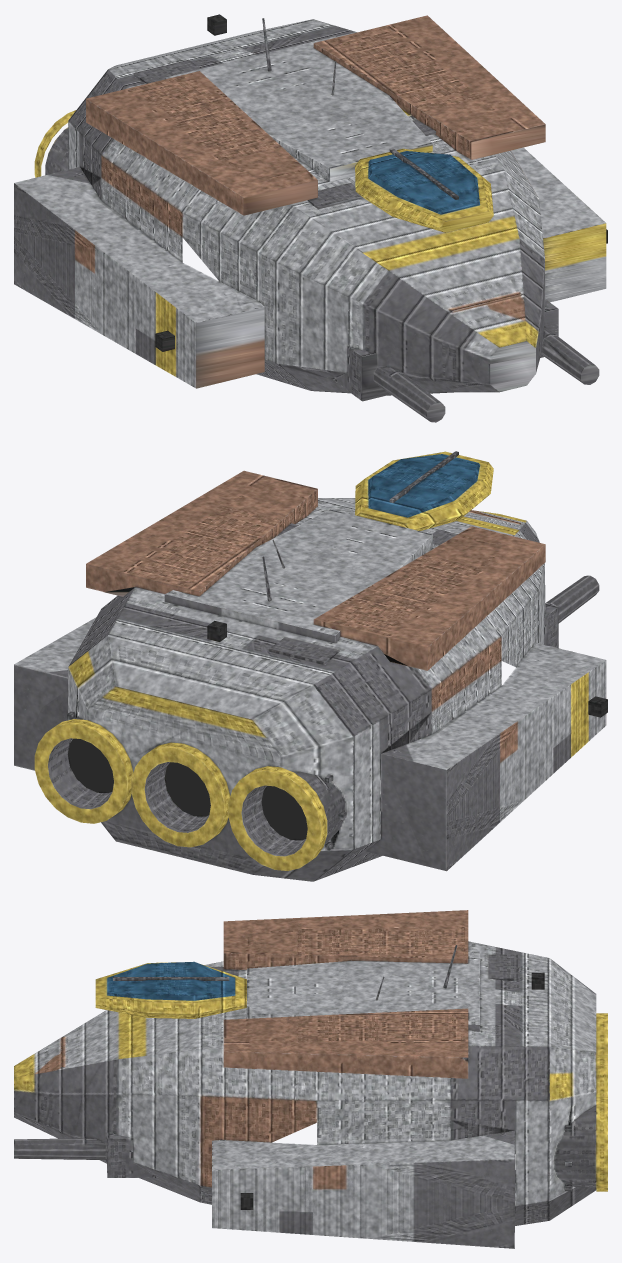
File: sd_npc_brute.glb
The picture shows the model from 3 angles, top to bottom: view 1: azimuth 30°, elevation 25°; view 2: azimuth 150°, elevation 25°; view 3: azimuth 270°, elevation 25°; orthographic projection. The views are drawn at different scales.
Visible parts, largest first — view 1: LOD0_body, LOD1_body; view 2: LOD0_body, LOD1_body; view 3: LOD0_body, LOD1_body.
Part boxes in pixels (x1,y1,x2,y2): LOD0_body: (14,14,607,422); LOD1_body: (14,15,607,411); LOD0_body: (14,451,607,881); LOD1_body: (14,451,607,874); LOD0_body: (14,910,607,1248); LOD1_body: (15,910,607,1248).
Size of the model in its own units: 0.7667 by 0.4394 by 1.
1 material, 1 textured.
